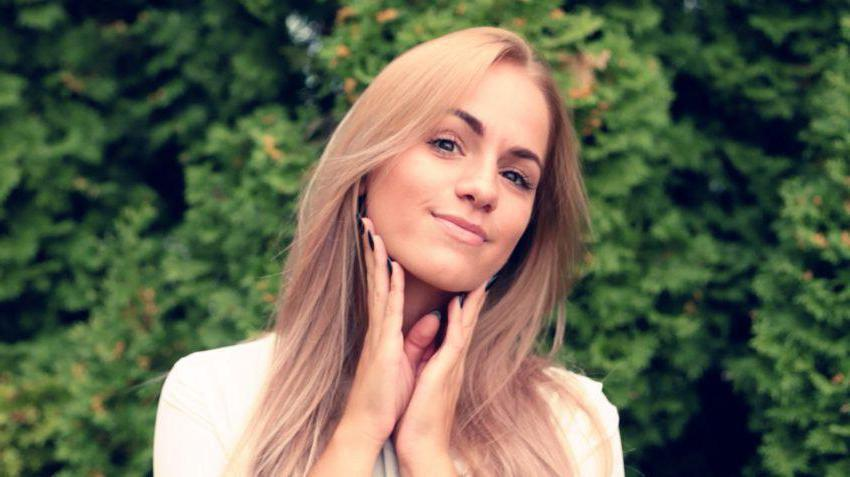Sober: (385, 79, 540, 283)
